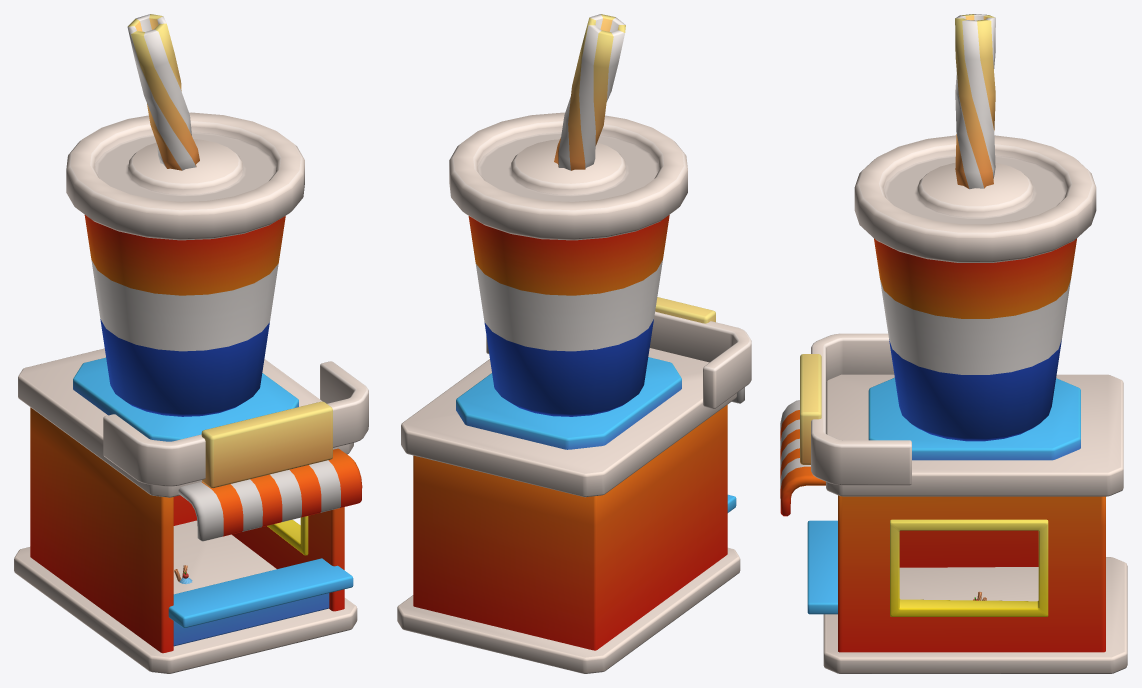
File: lpb_store_soda.fbx
3 views of the same model, side by side, from view 1: azimuth 30°, elevation 25°; view 2: azimuth 150°, elevation 25°; view 3: azimuth 270°, elevation 25° (orthographic).
Visible parts, largest first — view 1: Store.002; view 2: Store.002; view 3: Store.002.
Part boxes in pixels (left/top/right/bottom): Store.002: left=14, top=14, right=368, bottom=673; Store.002: left=397, top=14, right=751, bottom=673; Store.002: left=780, top=14, right=1127, bottom=673.
Bounding box in the file's own units: 355 × 882 × 460.
